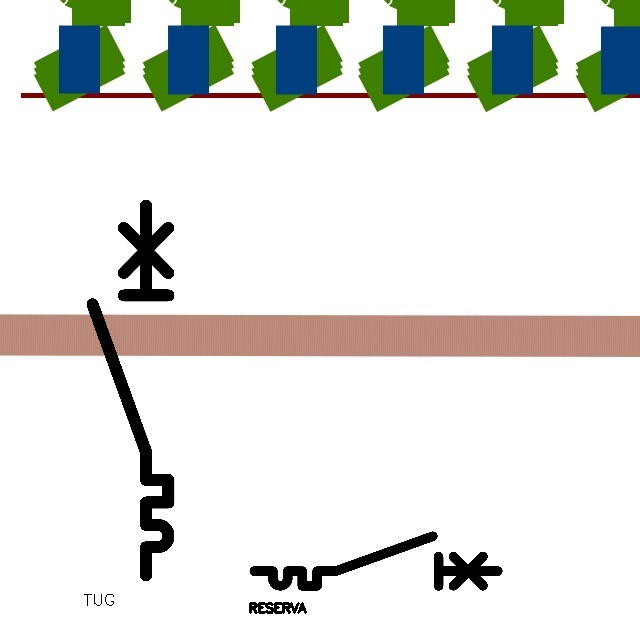interruptor_termomagnetico: (83, 196, 178, 585), (248, 530, 504, 592)
